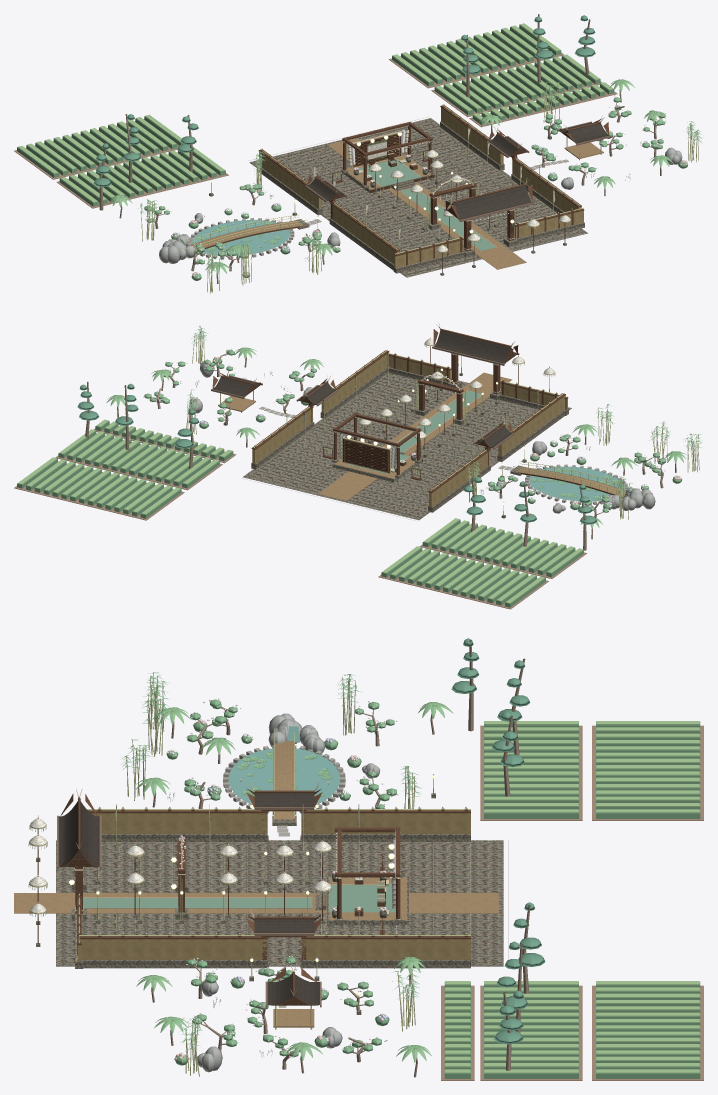
The model's file is compound.glb.
3 views of the same model, one above another, from view 1: azimuth 30°, elevation 25°; view 2: azimuth 150°, elevation 25°; view 3: azimuth 270°, elevation 25° (orthographic). The views are drawn at different scales.
Visible parts, largest first — view 1: tea_plantation, courtyard, walls, gapura, garden_east, wedding_stage, garden_trees, garden_west_water, wood_bridge, saung, processional_payung, floral_arch (+3 smaller); view 2: tea_plantation, courtyard, walls, garden_trees, gapura, garden_east, wedding_stage, garden_west_water, wood_bridge, processional_payung, saung, floral_arch (+2 smaller); view 3: tea_plantation, courtyard, walls, garden_trees, garden_east, wedding_stage, garden_west_water, gapura, saung, processional_payung, wood_bridge, garden_east_rocks (+5 smaller).
Part boxes in pixels (left/top/right/bottom): tea_plantation: left=14, top=23, right=617, bottom=208; courtyard: left=248, top=117, right=587, bottom=277; walls: left=258, top=104, right=581, bottom=270; gapura: left=393, top=177, right=584, bottom=273; garden_east: left=461, top=14, right=701, bottom=195; wedding_stage: left=331, top=121, right=438, bottom=194; garden_trees: left=93, top=114, right=334, bottom=293; garden_west_water: left=187, top=218, right=294, bottom=259; wood_bridge: left=180, top=214, right=309, bottom=258; saung: left=557, top=115, right=610, bottom=160; processional_payung: left=378, top=160, right=498, bottom=241; floral_arch: left=427, top=177, right=479, bottom=230; tea_plantation: left=14, top=419, right=587, bottom=609; courtyard: left=243, top=372, right=571, bottom=520; walls: left=251, top=349, right=566, bottom=512; garden_trees: left=463, top=404, right=702, bottom=550; gapura: left=388, top=322, right=568, bottom=415; garden_east: left=77, top=326, right=323, bottom=469; wedding_stage: left=322, top=413, right=426, bottom=482; garden_west_water: left=525, top=464, right=628, bottom=504; wood_bridge: left=510, top=461, right=634, bottom=498; processional_payung: left=368, top=368, right=499, bottom=457; saung: left=211, top=369, right=262, bottom=412; floral_arch: left=415, top=374, right=466, bottom=425; tea_plantation: left=441, top=721, right=703, bottom=1080; courtyard: left=14, top=840, right=508, bottom=966; walls: left=79, top=782, right=470, bottom=968; garden_trees: left=121, top=638, right=530, bottom=808; garden_east: left=136, top=902, right=545, bottom=1077; wedding_stage: left=313, top=827, right=408, bottom=934; garden_west_water: left=223, top=745, right=345, bottom=814; gapura: left=57, top=788, right=101, bottom=968; saung: left=265, top=963, right=321, bottom=1029; processional_payung: left=95, top=842, right=309, bottom=923; wood_bridge: left=272, top=728, right=296, bottom=825; garden_east_rocks: left=197, top=981, right=342, bottom=1072.
Size of the model in its own units: 91.65 by 13.19 by 74.
Materials: 32 (7 with a texture image).
